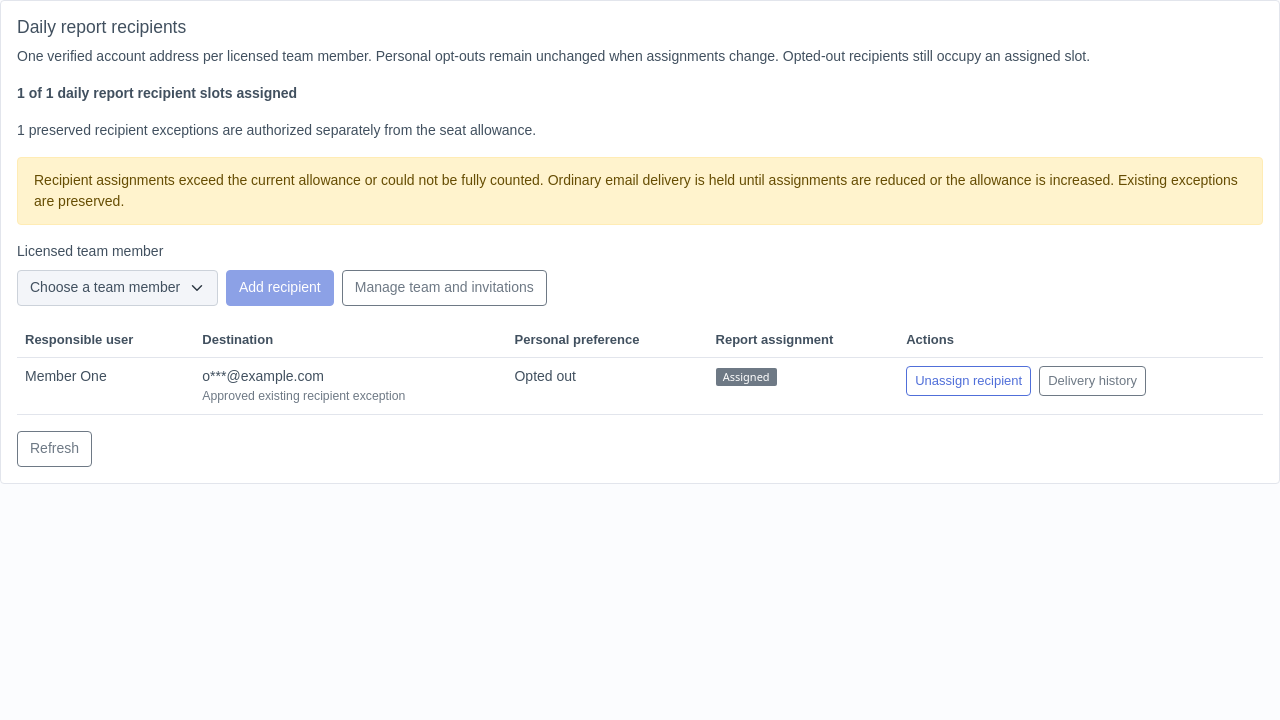
Test: keeps an assignment visible after a failed save and displays overage and migration exceptions
Expected: the text "Approved existing recipient exception" is shown, [202,390,405,404]
Expected: the text "Ordinary email delivery is held" is shown, [34,172,1238,209]
Step 1. Click the button "Unassign recipient" → {"x": 969, "y": 381}, box [906,366,1031,396]
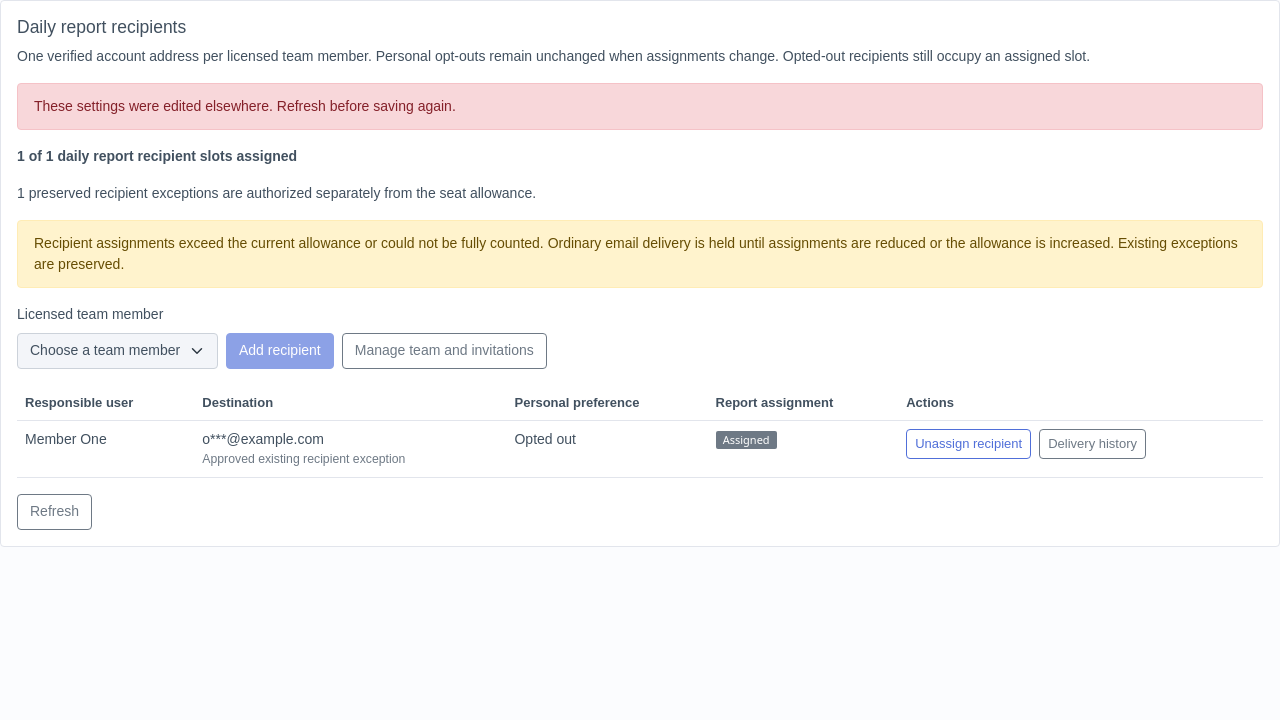
Expected: the text "Assigned" is shown, [716,431,777,449]
Now the text "These settings were edited elsewhere. Refresh before saving again." is shown, box [17,83,1263,130]
